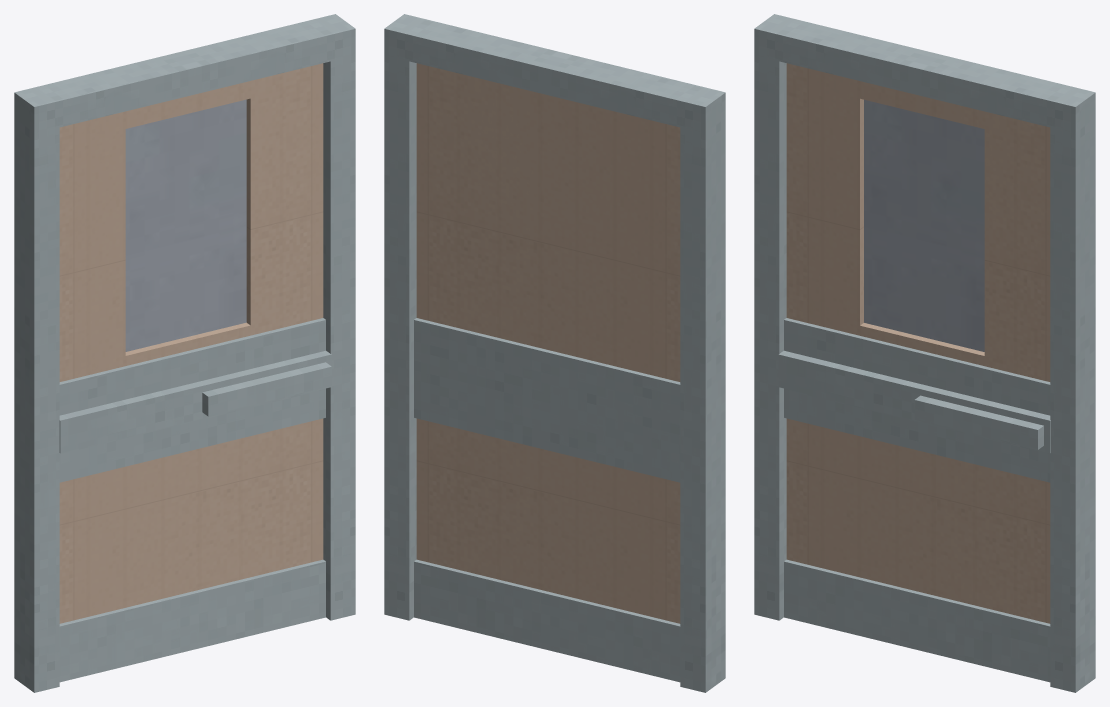
The model's file is DoorType2V2.fbx.
3 renders of one model, left to right at view 1: azimuth 30°, elevation 25°; view 2: azimuth 150°, elevation 25°; view 3: azimuth 330°, elevation 25°, orthographic.
Parts seen in each view (by area): view 1: DoorType2V2; view 2: DoorType2V2; view 3: DoorType2V2.
Boxes of the visible parts, left/top/right/bottom form: DoorType2V2: left=14, top=14, right=355, bottom=692; DoorType2V2: left=384, top=14, right=725, bottom=692; DoorType2V2: left=754, top=14, right=1095, bottom=692.
Bounding box in the file's own units: 931 × 1621 × 135.
